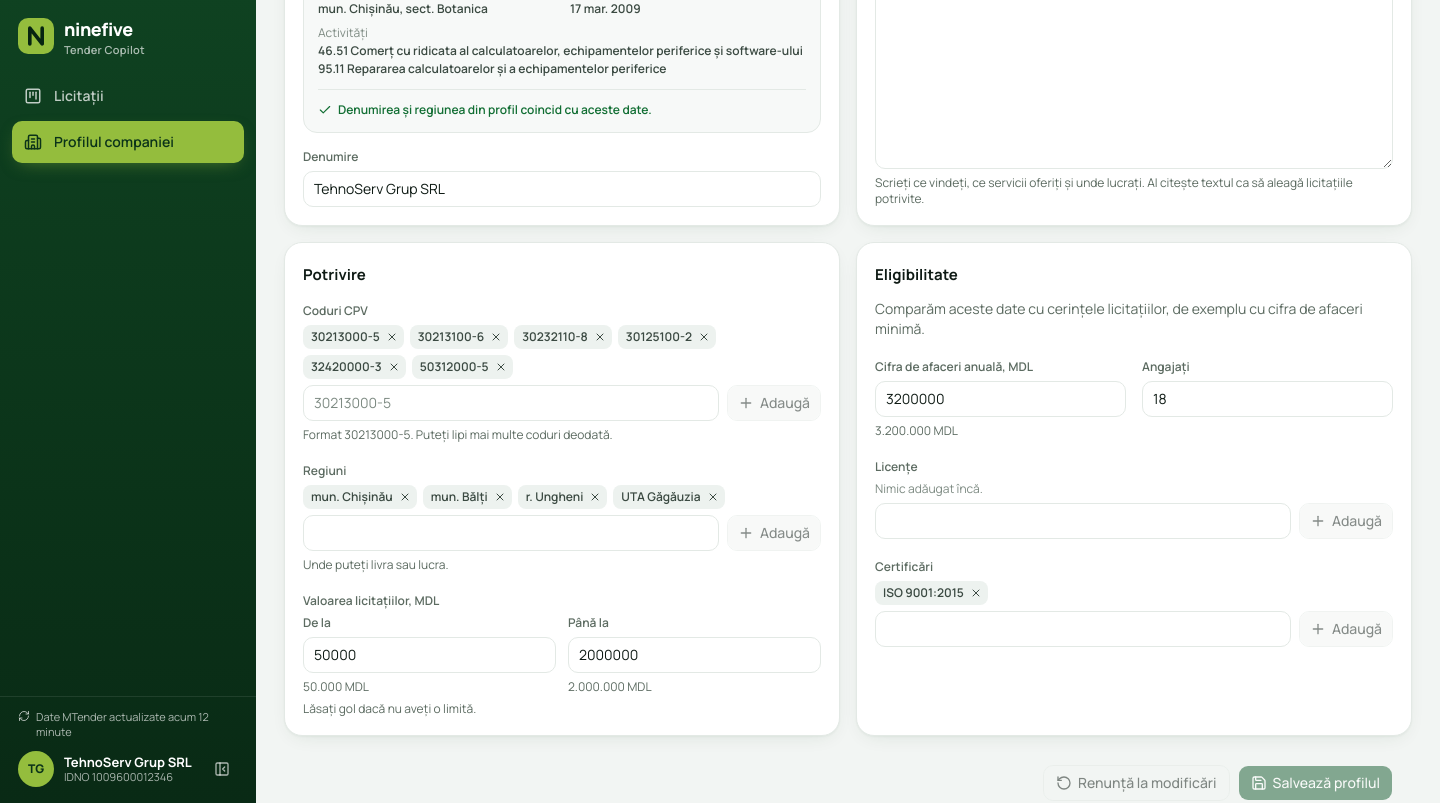
Test: profile form › discards unsaved changes
(page scrolled)
Expected: the field labelled "Denumire" is shown, [303, 171, 821, 207]
Step 1. Clear the number field labelled "Angajați" → (1268, 399), box [1142, 381, 1393, 417]
(page scrolled)
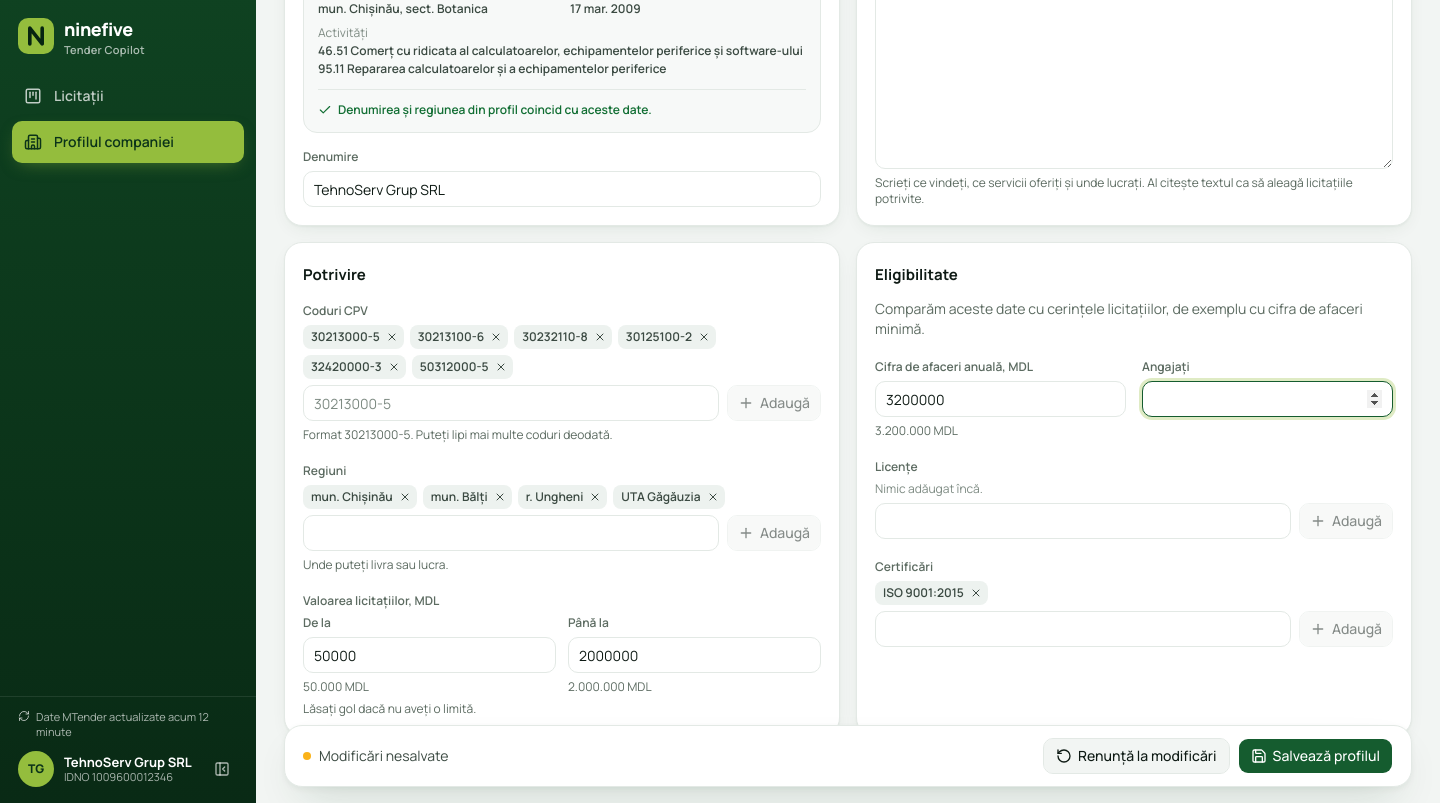
Step 2. Type "25" into the number field labelled "Angajați" → (1268, 399), box [1142, 381, 1393, 417]
(page scrolled)
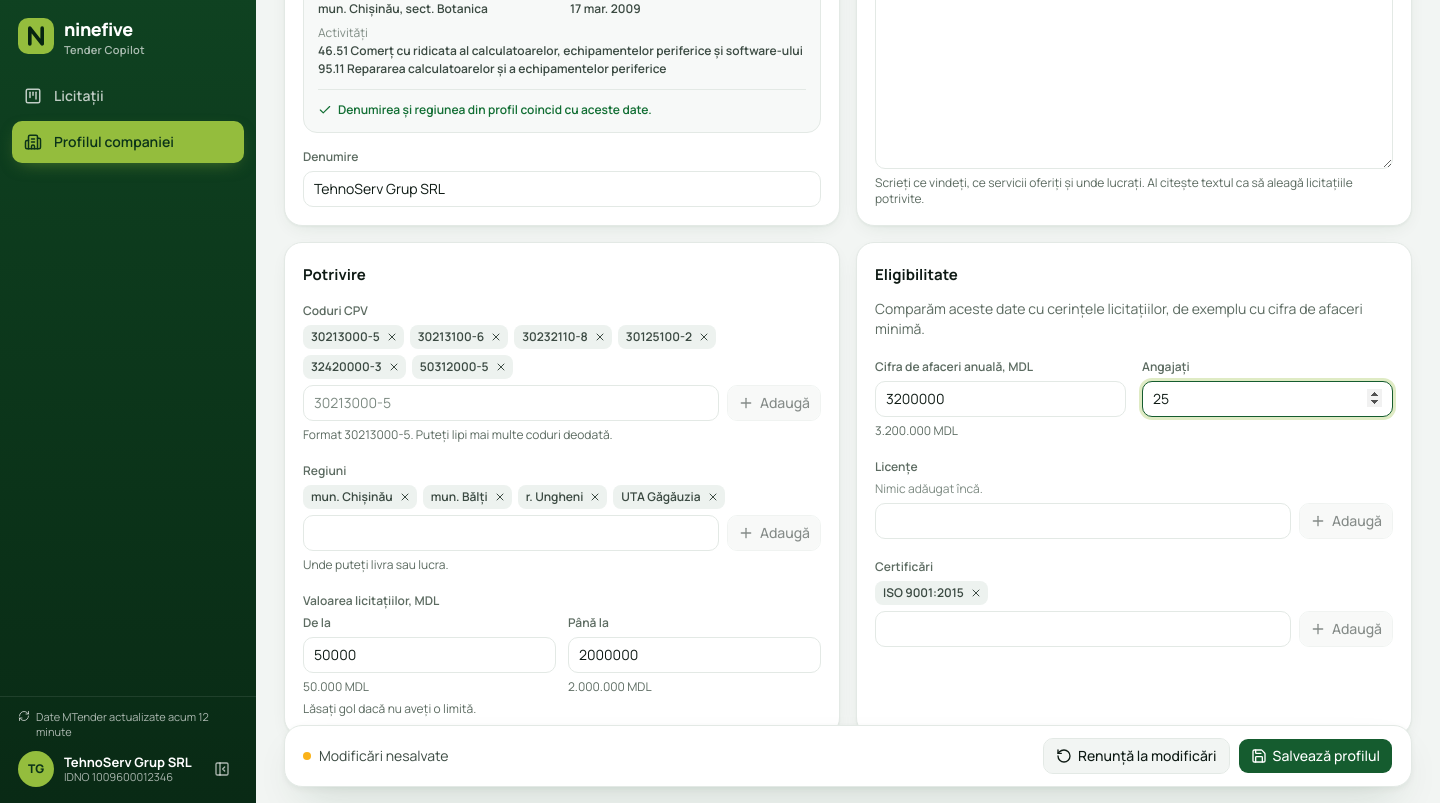
Step 3. Click the button "Renunță la modificări" → (1136, 756), box [1043, 738, 1230, 774]
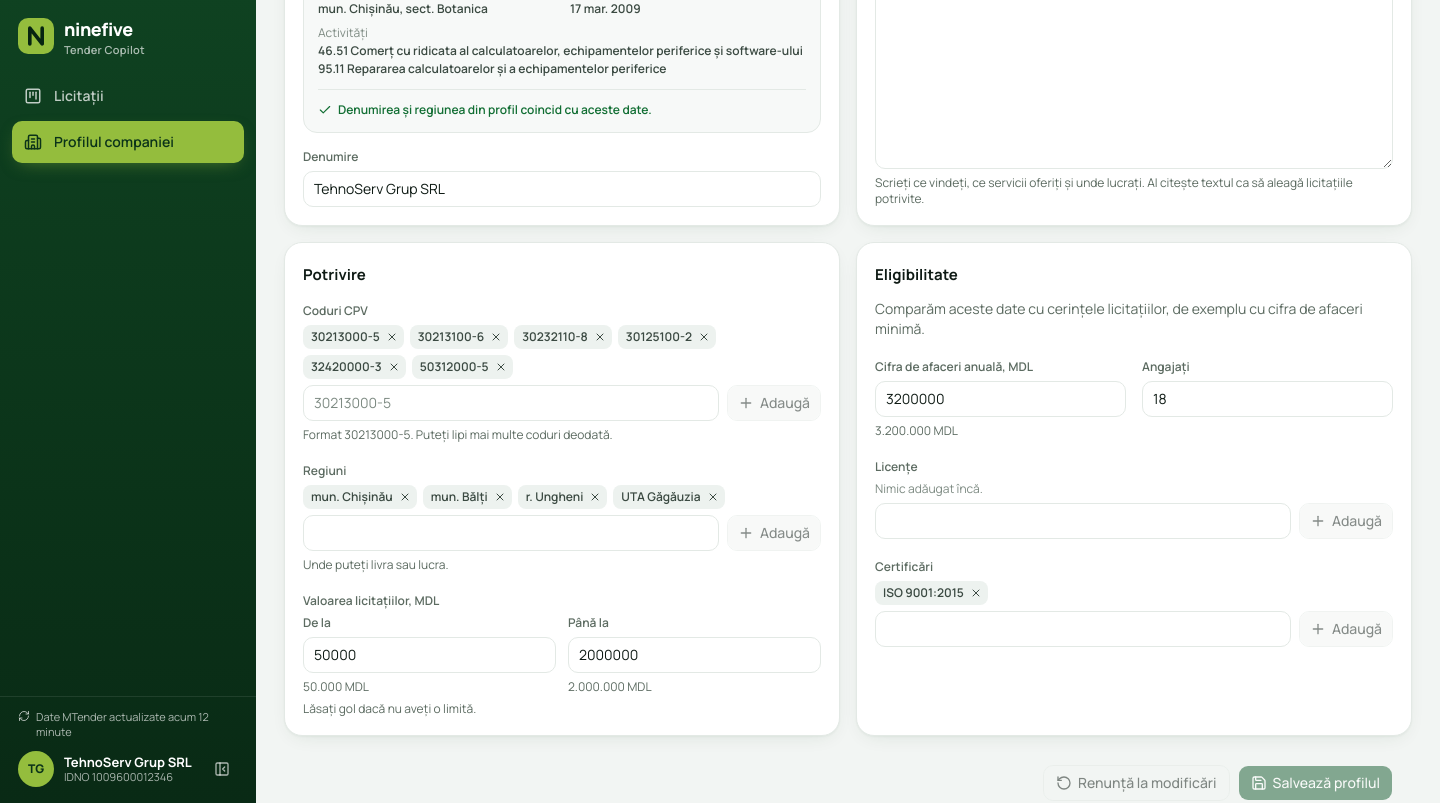
Expected: the number field labelled "Angajați" holds "18", [1142, 381, 1393, 417]
Expected: the text "Modificări nesalvate" is gone
Expected: the button "Salvează profilul" is disabled, [1238, 765, 1393, 801]
